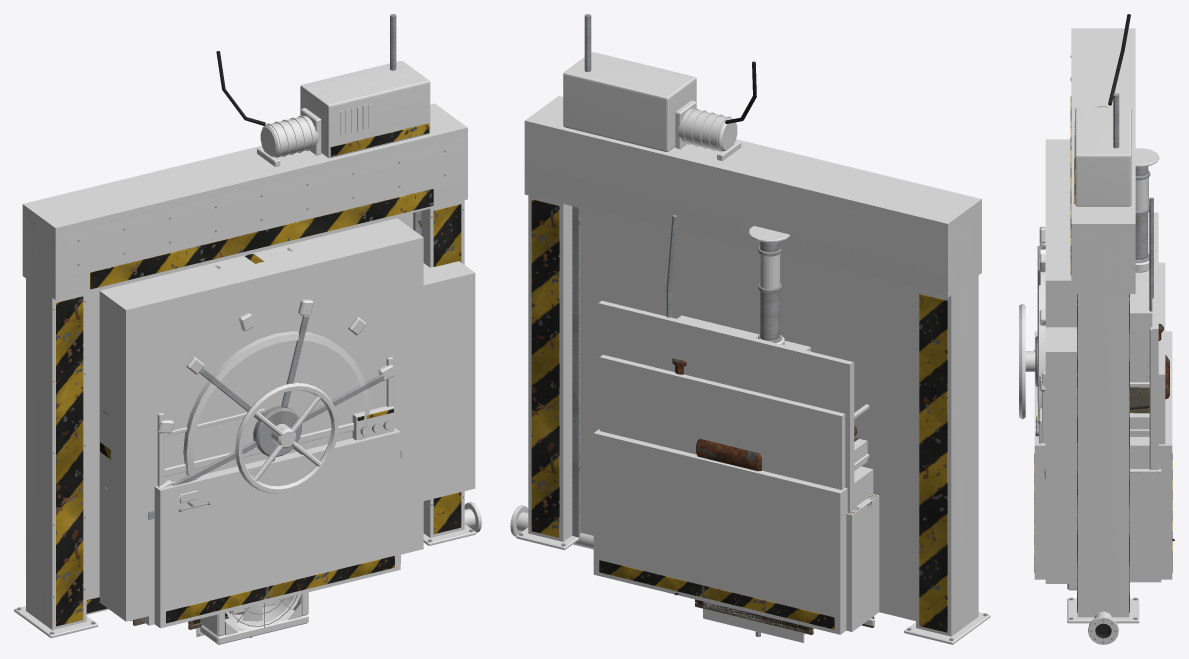
Rendered from Kit_Bunker.fbx.
3 views of the same model, side by side, from view 1: azimuth 30°, elevation 25°; view 2: azimuth 150°, elevation 25°; view 3: azimuth 270°, elevation 25° (orthographic). The views are drawn at different scales.
Parts seen in each view (by area): view 1: SecurityGate_Frame, COL_Door, COL_Body, BlastDoor, COL_Hinge, COL_Header, Generator, COL_Bars, COL_JambL, VentFan, Bunkbed, COL_JambR (+2 smaller); view 2: SecurityGate_Frame, COL_Bars, COL_Body, COL_Header, COL_Frame, COL_Pegboard, COL_JambL, Generator, COL_Top, SellMachine, COL_JambR, VentFan (+4 smaller); view 3: SecurityGate_Frame, COL_JambR, COL_Hinge, COL_Header, COL_Door, COL_Body, SellMachine, COL_Top, BlastDoor, COL_Tower, COL_Pegboard, COL_Frame (+5 smaller).
Boxes of the visible parts, left/top/right/bottom form: SecurityGate_Frame: left=14, top=14, right=476, bottom=638; COL_Door: left=99, top=218, right=423, bottom=621; COL_Body: left=154, top=428, right=400, bottom=628; BlastDoor: left=100, top=248, right=404, bottom=507; COL_Hinge: left=389, top=261, right=475, bottom=500; COL_Header: left=22, top=103, right=467, bottom=299; Generator: left=159, top=406, right=399, bottom=626; COL_Bars: left=86, top=213, right=413, bottom=614; COL_JambL: left=26, top=220, right=86, bottom=629; VentFan: left=196, top=592, right=308, bottom=644; Bunkbed: left=157, top=357, right=393, bottom=485; COL_JambR: left=424, top=200, right=464, bottom=537; SecurityGate_Frame: left=516, top=14, right=990, bottom=644; COL_Bars: left=580, top=208, right=915, bottom=620; COL_Body: left=593, top=429, right=873, bottom=634; COL_Header: left=524, top=96, right=981, bottom=297; COL_Frame: left=599, top=354, right=845, bottom=489; COL_Pegboard: left=598, top=300, right=853, bottom=513; COL_JambL: left=916, top=225, right=978, bottom=636; Generator: left=594, top=358, right=846, bottom=633; COL_Top: left=846, top=494, right=879, bottom=631; SellMachine: left=666, top=215, right=809, bottom=351; COL_JambR: left=528, top=195, right=572, bottom=541; VentFan: left=703, top=601, right=804, bottom=642; SecurityGate_Frame: left=1067, top=14, right=1139, bottom=623; COL_JambR: left=1077, top=237, right=1129, bottom=617; COL_Hinge: left=1045, top=327, right=1076, bottom=561; COL_Header: left=1071, top=28, right=1135, bottom=293; COL_Door: left=1045, top=139, right=1076, bottom=583; COL_Body: left=1034, top=331, right=1172, bottom=579; SellMachine: left=1130, top=148, right=1159, bottom=387; COL_Top: left=1130, top=469, right=1161, bottom=582; BlastDoor: left=1019, top=226, right=1045, bottom=444; COL_Tower: left=1130, top=253, right=1152, bottom=387; COL_Pegboard: left=1152, top=212, right=1158, bottom=469; COL_Frame: left=1158, top=262, right=1165, bottom=444.
Bounding box in the file's own units: 3.87 × 4.8 × 1.21.
